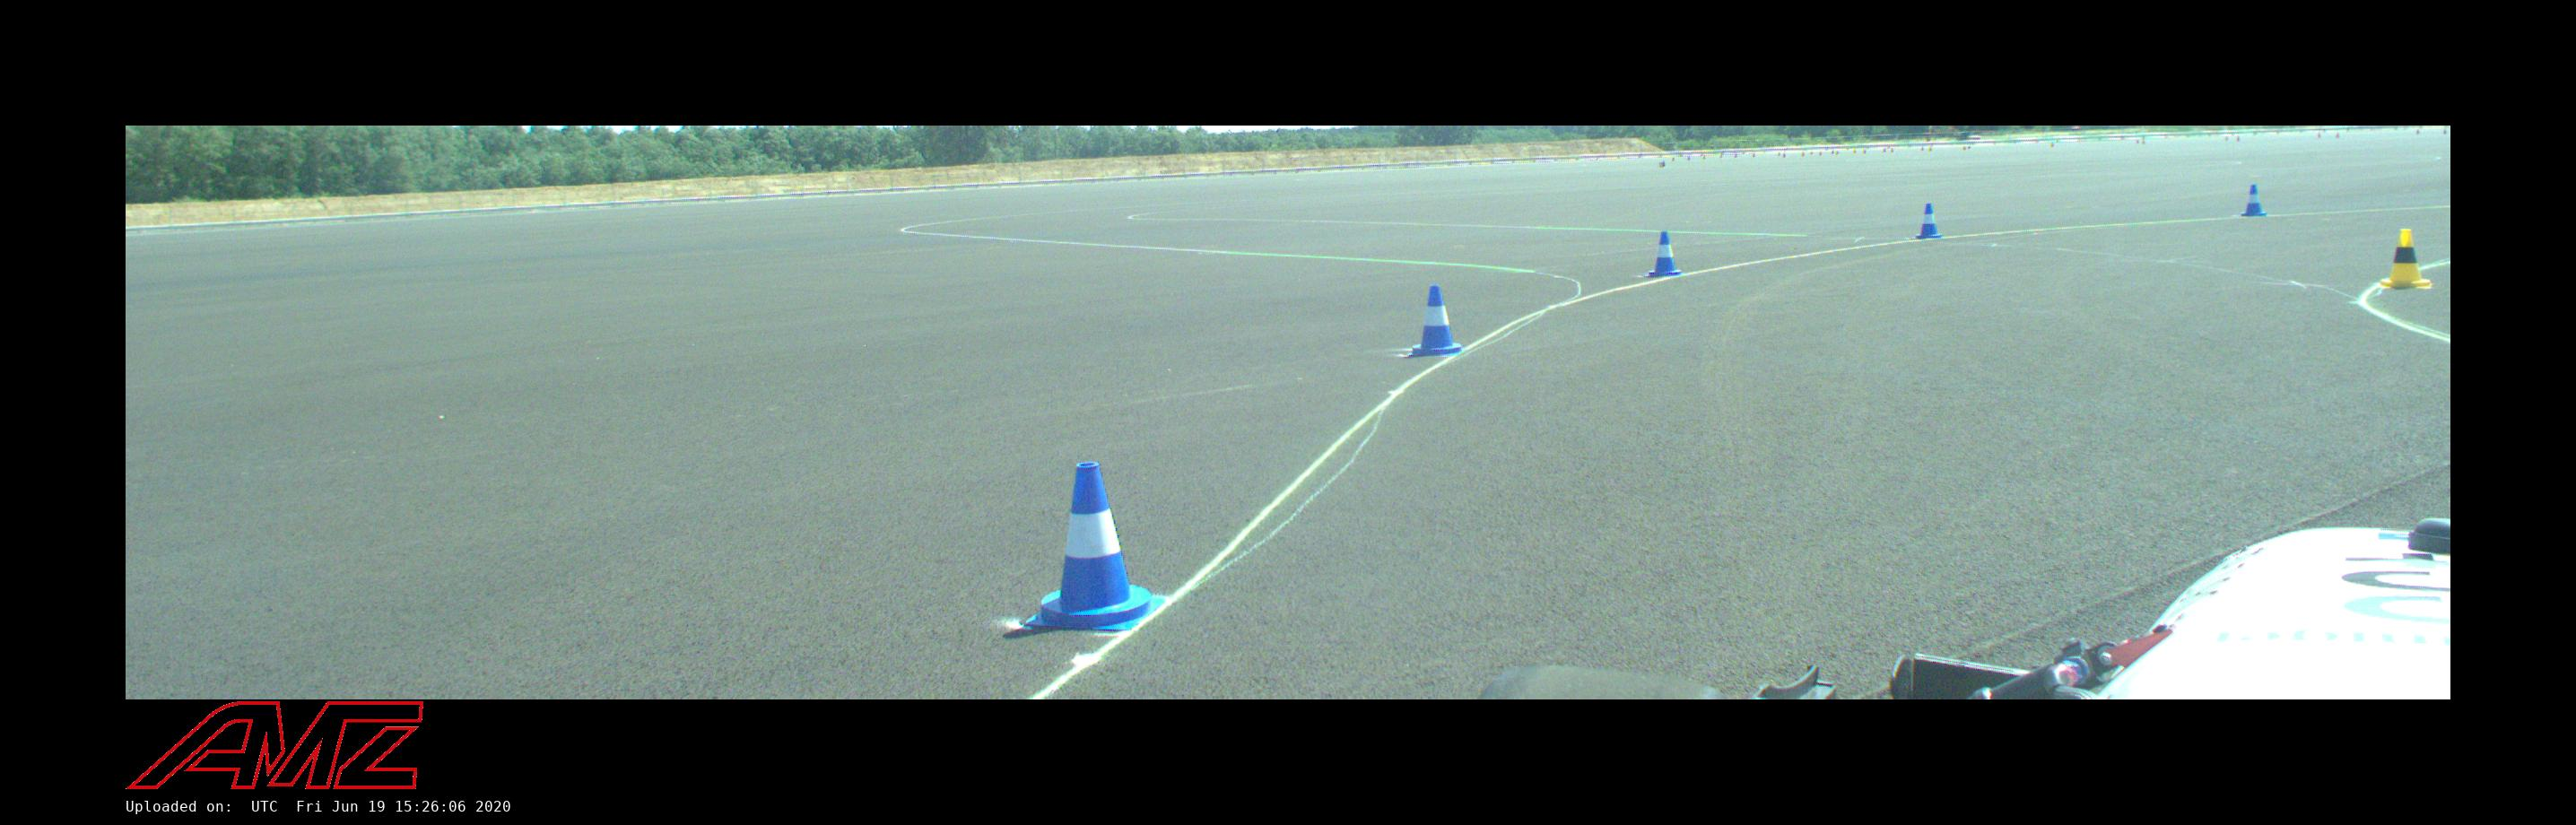blue_cone: (1027, 463, 1163, 629), (1411, 286, 1462, 355), (1648, 233, 1682, 278), (1912, 202, 1940, 238), (2241, 184, 2267, 217)
yellow_cone: (2379, 228, 2430, 288)
